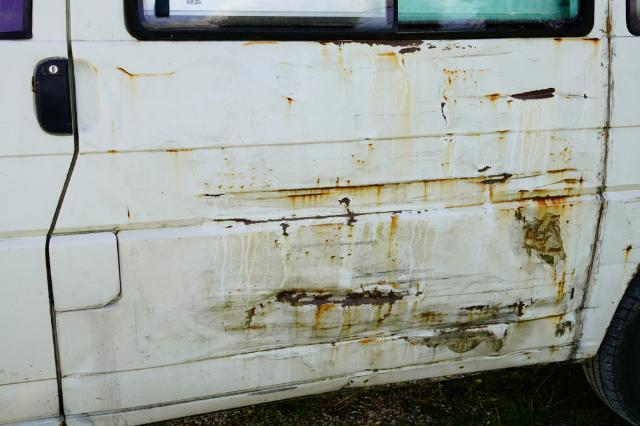rub: (183, 41, 592, 373)
